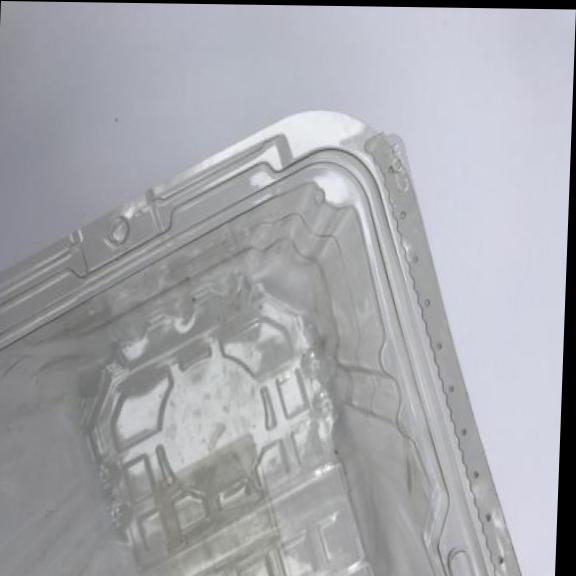Plastik: (0, 100, 549, 576)
